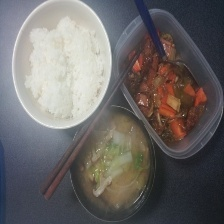rice: (22, 16, 105, 121)
